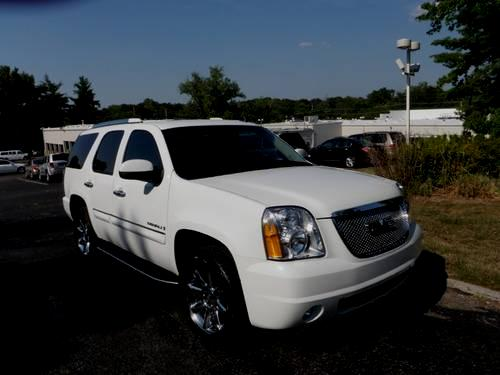GMC: (364, 212, 405, 239)
